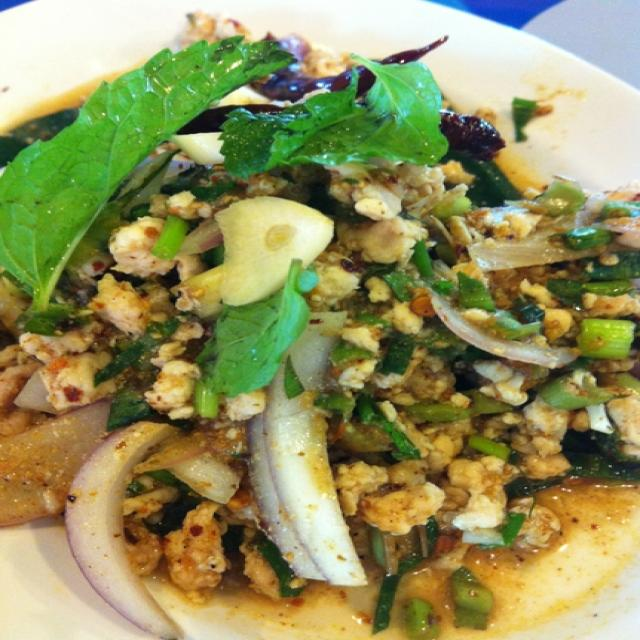鸡肉料理 含炸鸡: (19, 23, 614, 634)
